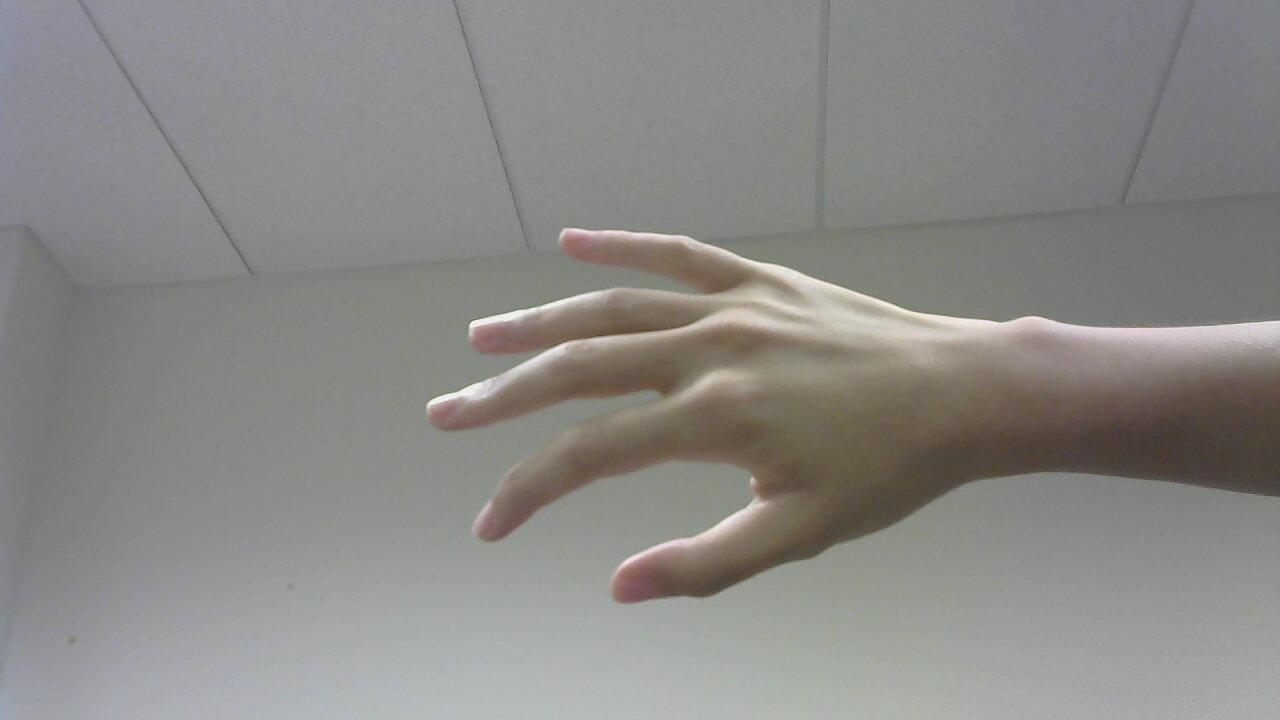hands: (416, 213, 976, 612)
